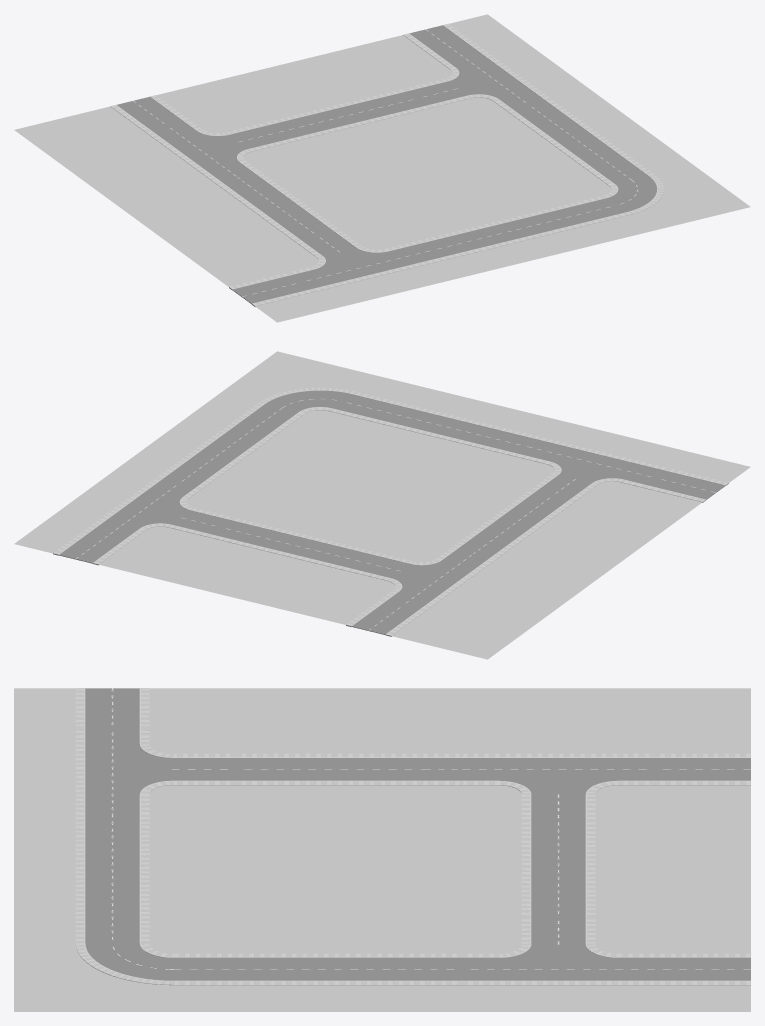
The model's file is Map.fbx.
3 renders of one model, top to bottom at view 1: azimuth 30°, elevation 25°; view 2: azimuth 150°, elevation 25°; view 3: azimuth 270°, elevation 25°, orthographic. The views are drawn at different scales.
Visible parts, largest first — view 1: Ground, Road; view 2: Ground, Road; view 3: Ground, Road.
Boxes of the visible parts, left/top/right/bottom form: Ground: left=14, top=14, right=750, bottom=322; Road: left=110, top=23, right=663, bottom=307; Ground: left=14, top=351, right=750, bottom=659; Road: left=53, top=387, right=728, bottom=636; Ground: left=14, top=688, right=750, bottom=1011; Road: left=75, top=688, right=750, bottom=985.
Bounding box in the file's own units: 7641 × 15.94 × 7356.
Materials: 4 (2 with a texture image).
